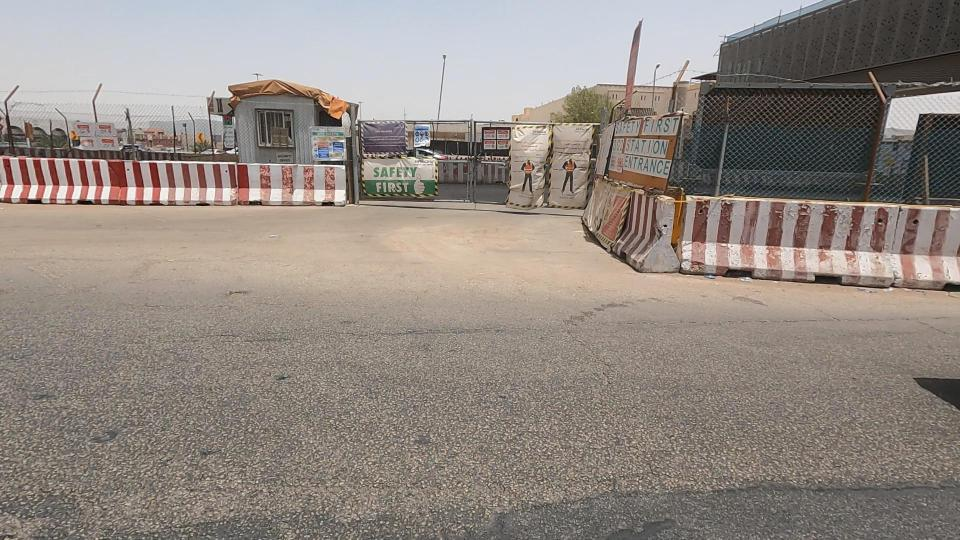BAD_BILLBOARD: (537, 58, 629, 258), (488, 79, 590, 242), (303, 135, 471, 224)
CONSTRUCTION_ROAD: (521, 135, 960, 320), (101, 121, 382, 224), (0, 106, 204, 234)
